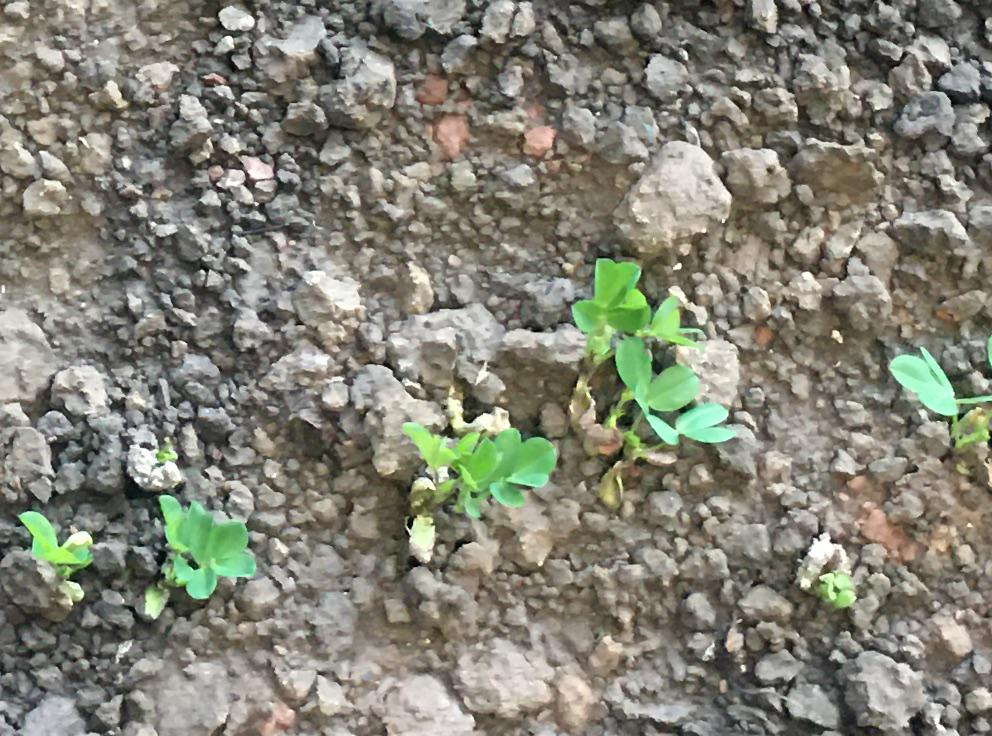block: (615, 139, 730, 257)
